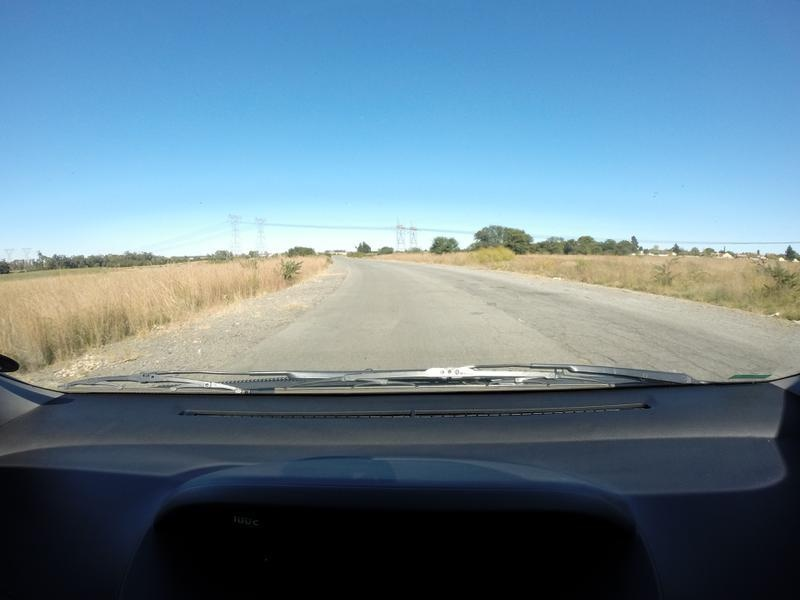pothole: (486, 299, 497, 306), (470, 310, 482, 314)
